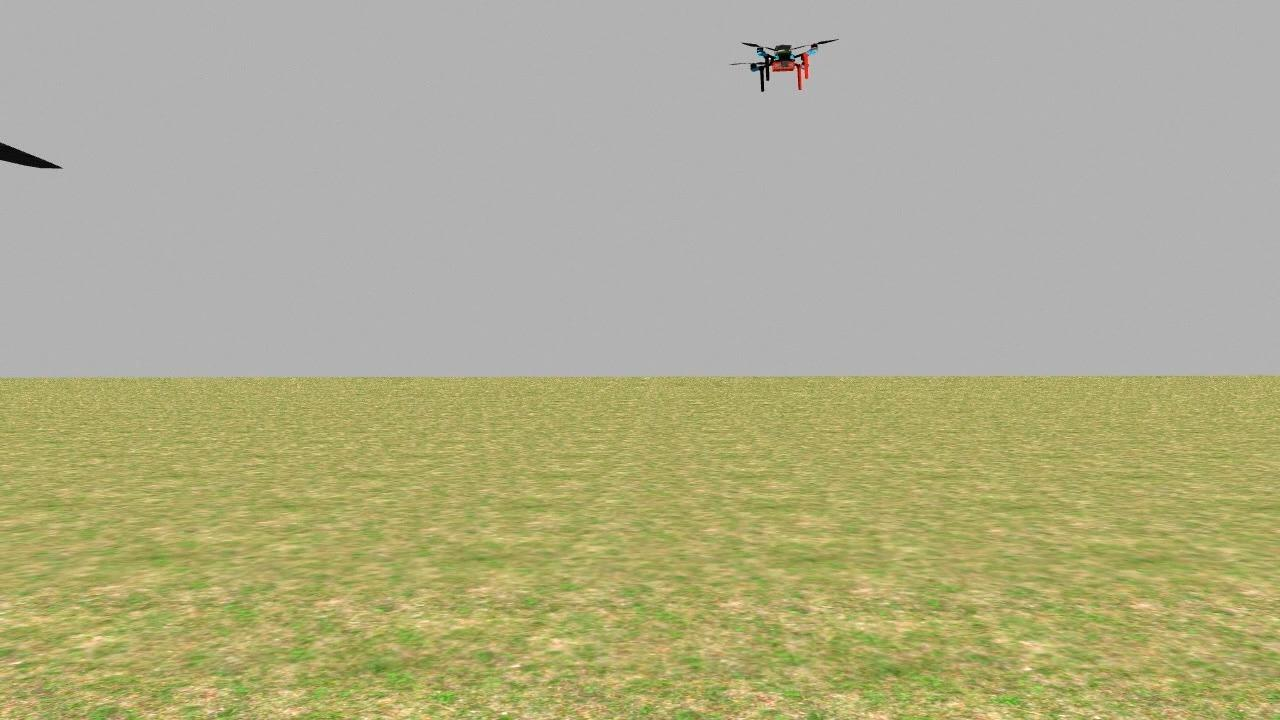UAV: (732, 31, 839, 100)
